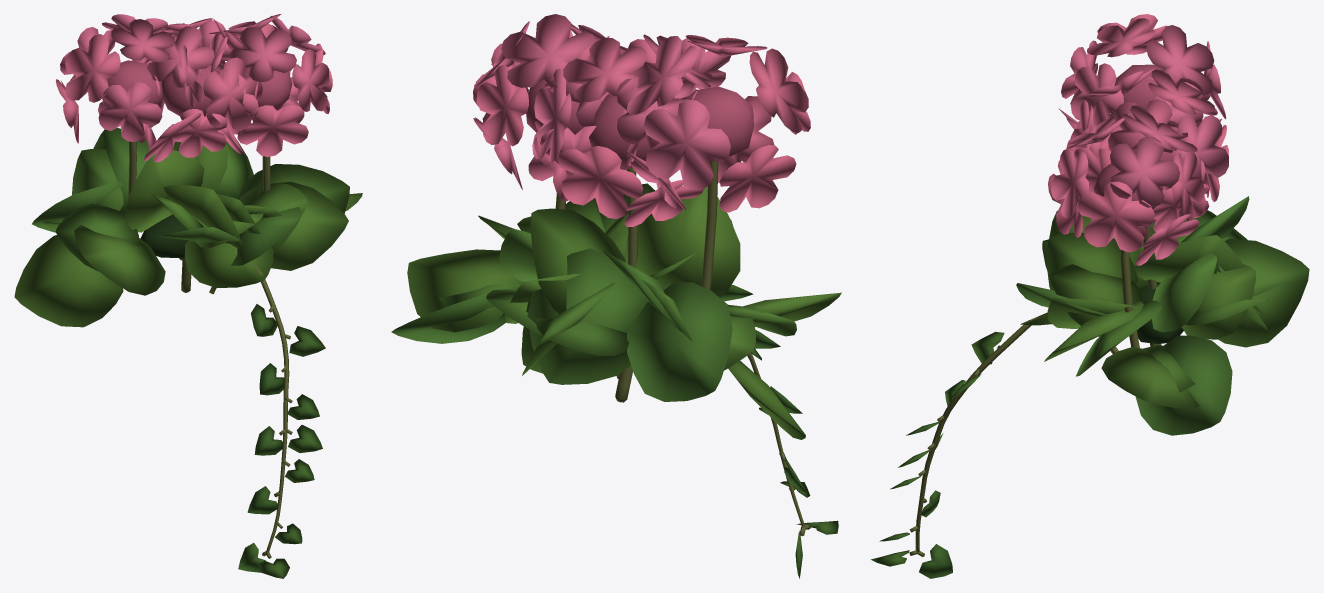
File: box_geranium_pink.glb
3 renders of one model, left to right at view 1: azimuth 30°, elevation 25°; view 2: azimuth 150°, elevation 25°; view 3: azimuth 270°, elevation 25°, orthographic. The views are drawn at different scales.
Parts seen in each view (by area): view 1: Sammel Pflanze, Sammel Putz, Sammel Blatt; view 2: Sammel Pflanze, Sammel Putz; view 3: Sammel Pflanze, Sammel Putz, Sammel Blatt.
Boxes of the visible parts, bbox=[...] form: Sammel Pflanze: bbox=[14, 14, 362, 578]; Sammel Putz: bbox=[128, 141, 292, 558]; Sammel Blatt: bbox=[140, 214, 188, 257]; Sammel Pflanze: bbox=[391, 14, 841, 578]; Sammel Putz: bbox=[555, 160, 810, 536]; Sammel Pflanze: bbox=[871, 14, 1309, 578]; Sammel Putz: bbox=[909, 222, 1161, 557]; Sammel Blatt: bbox=[1137, 282, 1183, 344].
Bounding box in the file's own units: 0.4162 × 0.5921 × 0.4377.
